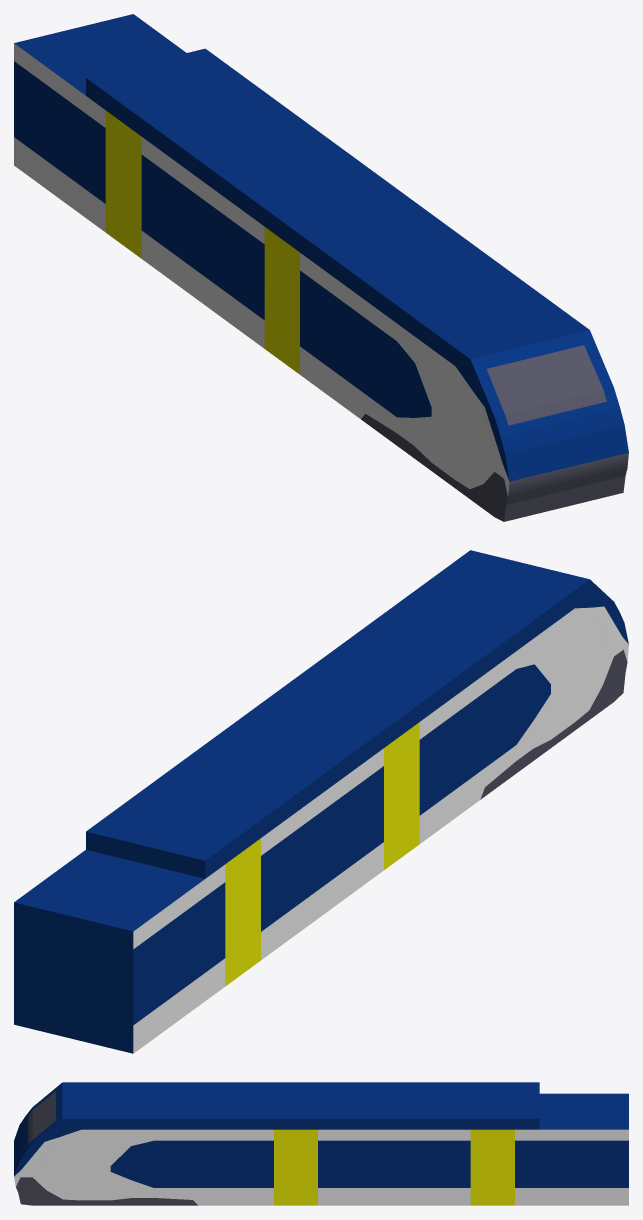
Rendered from flirt.glb.
3 renders of one model, top to bottom at view 1: azimuth 30°, elevation 25°; view 2: azimuth 150°, elevation 25°; view 3: azimuth 270°, elevation 25°, orthographic. The views are drawn at different scales.
Visible parts, largest first — view 1: SLT; view 2: SLT; view 3: SLT.
Boxes of the visible parts, x1,y1,x2,y2 form: SLT: (14, 14, 628, 521); SLT: (14, 550, 628, 1053); SLT: (14, 1082, 628, 1205).
Size of the model in its own units: 2.49 by 2.8 by 17.88.
1 material, 1 textured.
